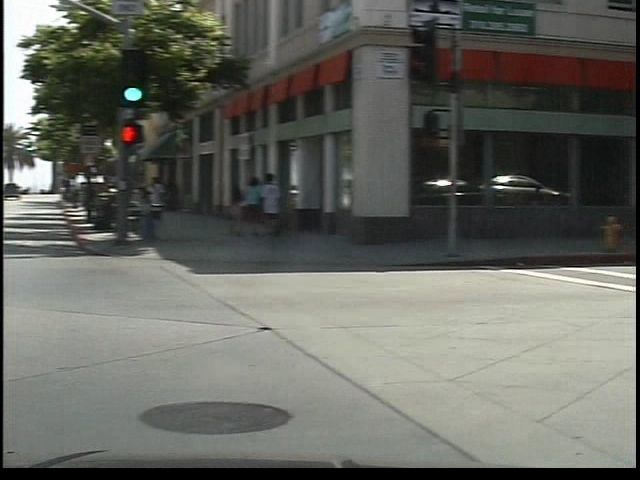person: (155, 170, 182, 234)
